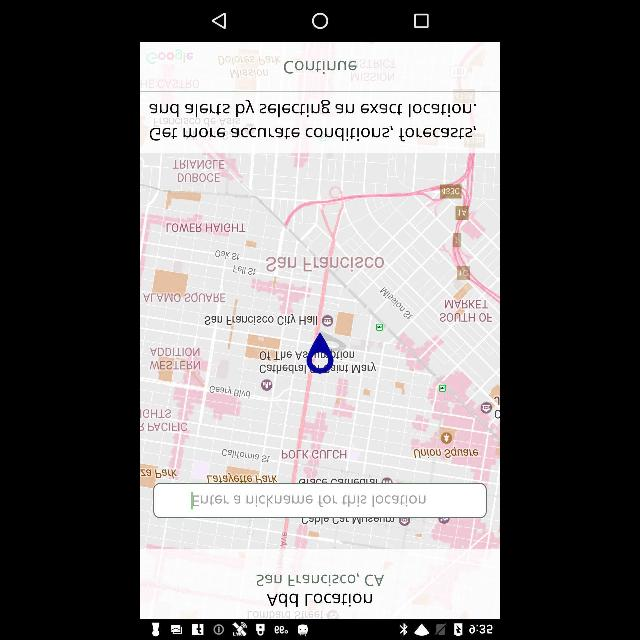icon: (310, 12, 330, 30), (413, 12, 431, 30), (211, 10, 227, 30)
input: (154, 484, 486, 516)
map: (142, 152, 496, 550)
panel: (142, 1, 500, 43)
text: (148, 102, 480, 140), (256, 572, 388, 608), (190, 492, 428, 511)
textbutton: (283, 59, 359, 76)
uppertaskbar: (140, 619, 500, 639)
